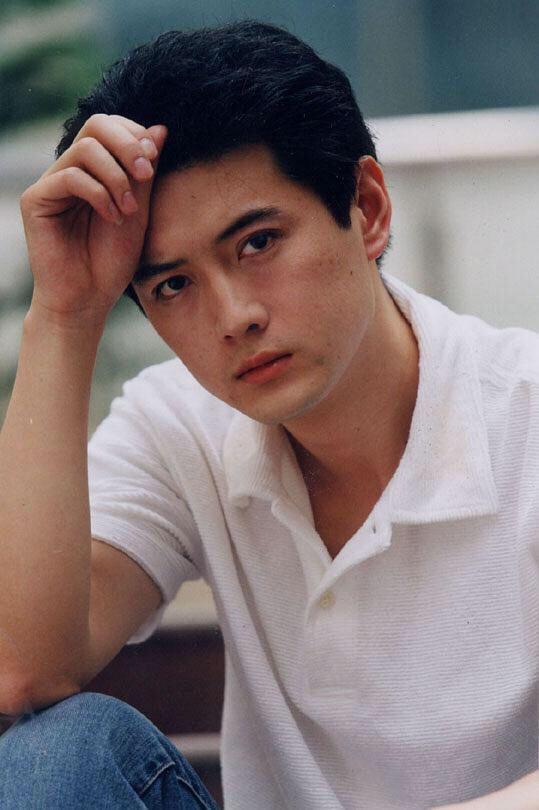person: (27, 43, 539, 810)
